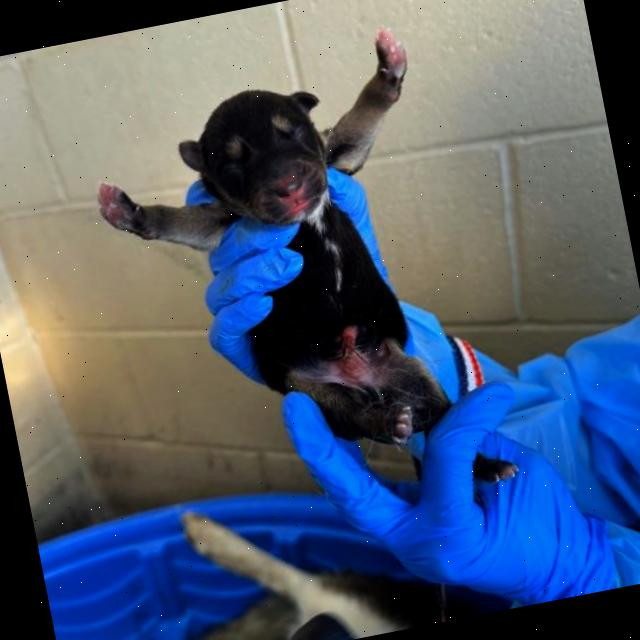siberian_husky_dog: (164, 66, 354, 252)
